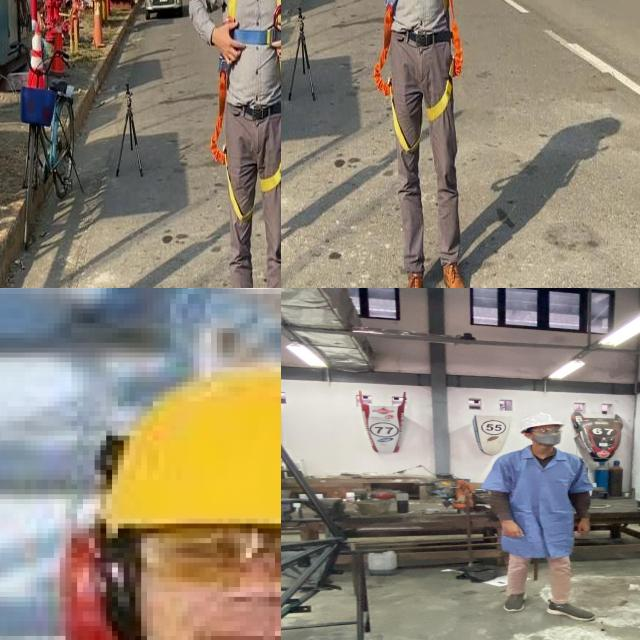Ear-protection: (54, 523, 281, 640)
Harness: (373, 3, 420, 152), (211, 57, 244, 222), (227, 0, 281, 85), (427, 0, 464, 122)
face_mask: (531, 425, 565, 446)
glasses: (118, 528, 281, 595), (524, 426, 564, 436)
hand_noglove: (496, 517, 530, 541), (574, 518, 597, 536)
head_helmet: (81, 362, 281, 528), (517, 412, 563, 429)
person: (481, 411, 611, 624)
shoes: (544, 597, 597, 624), (499, 588, 534, 613)
